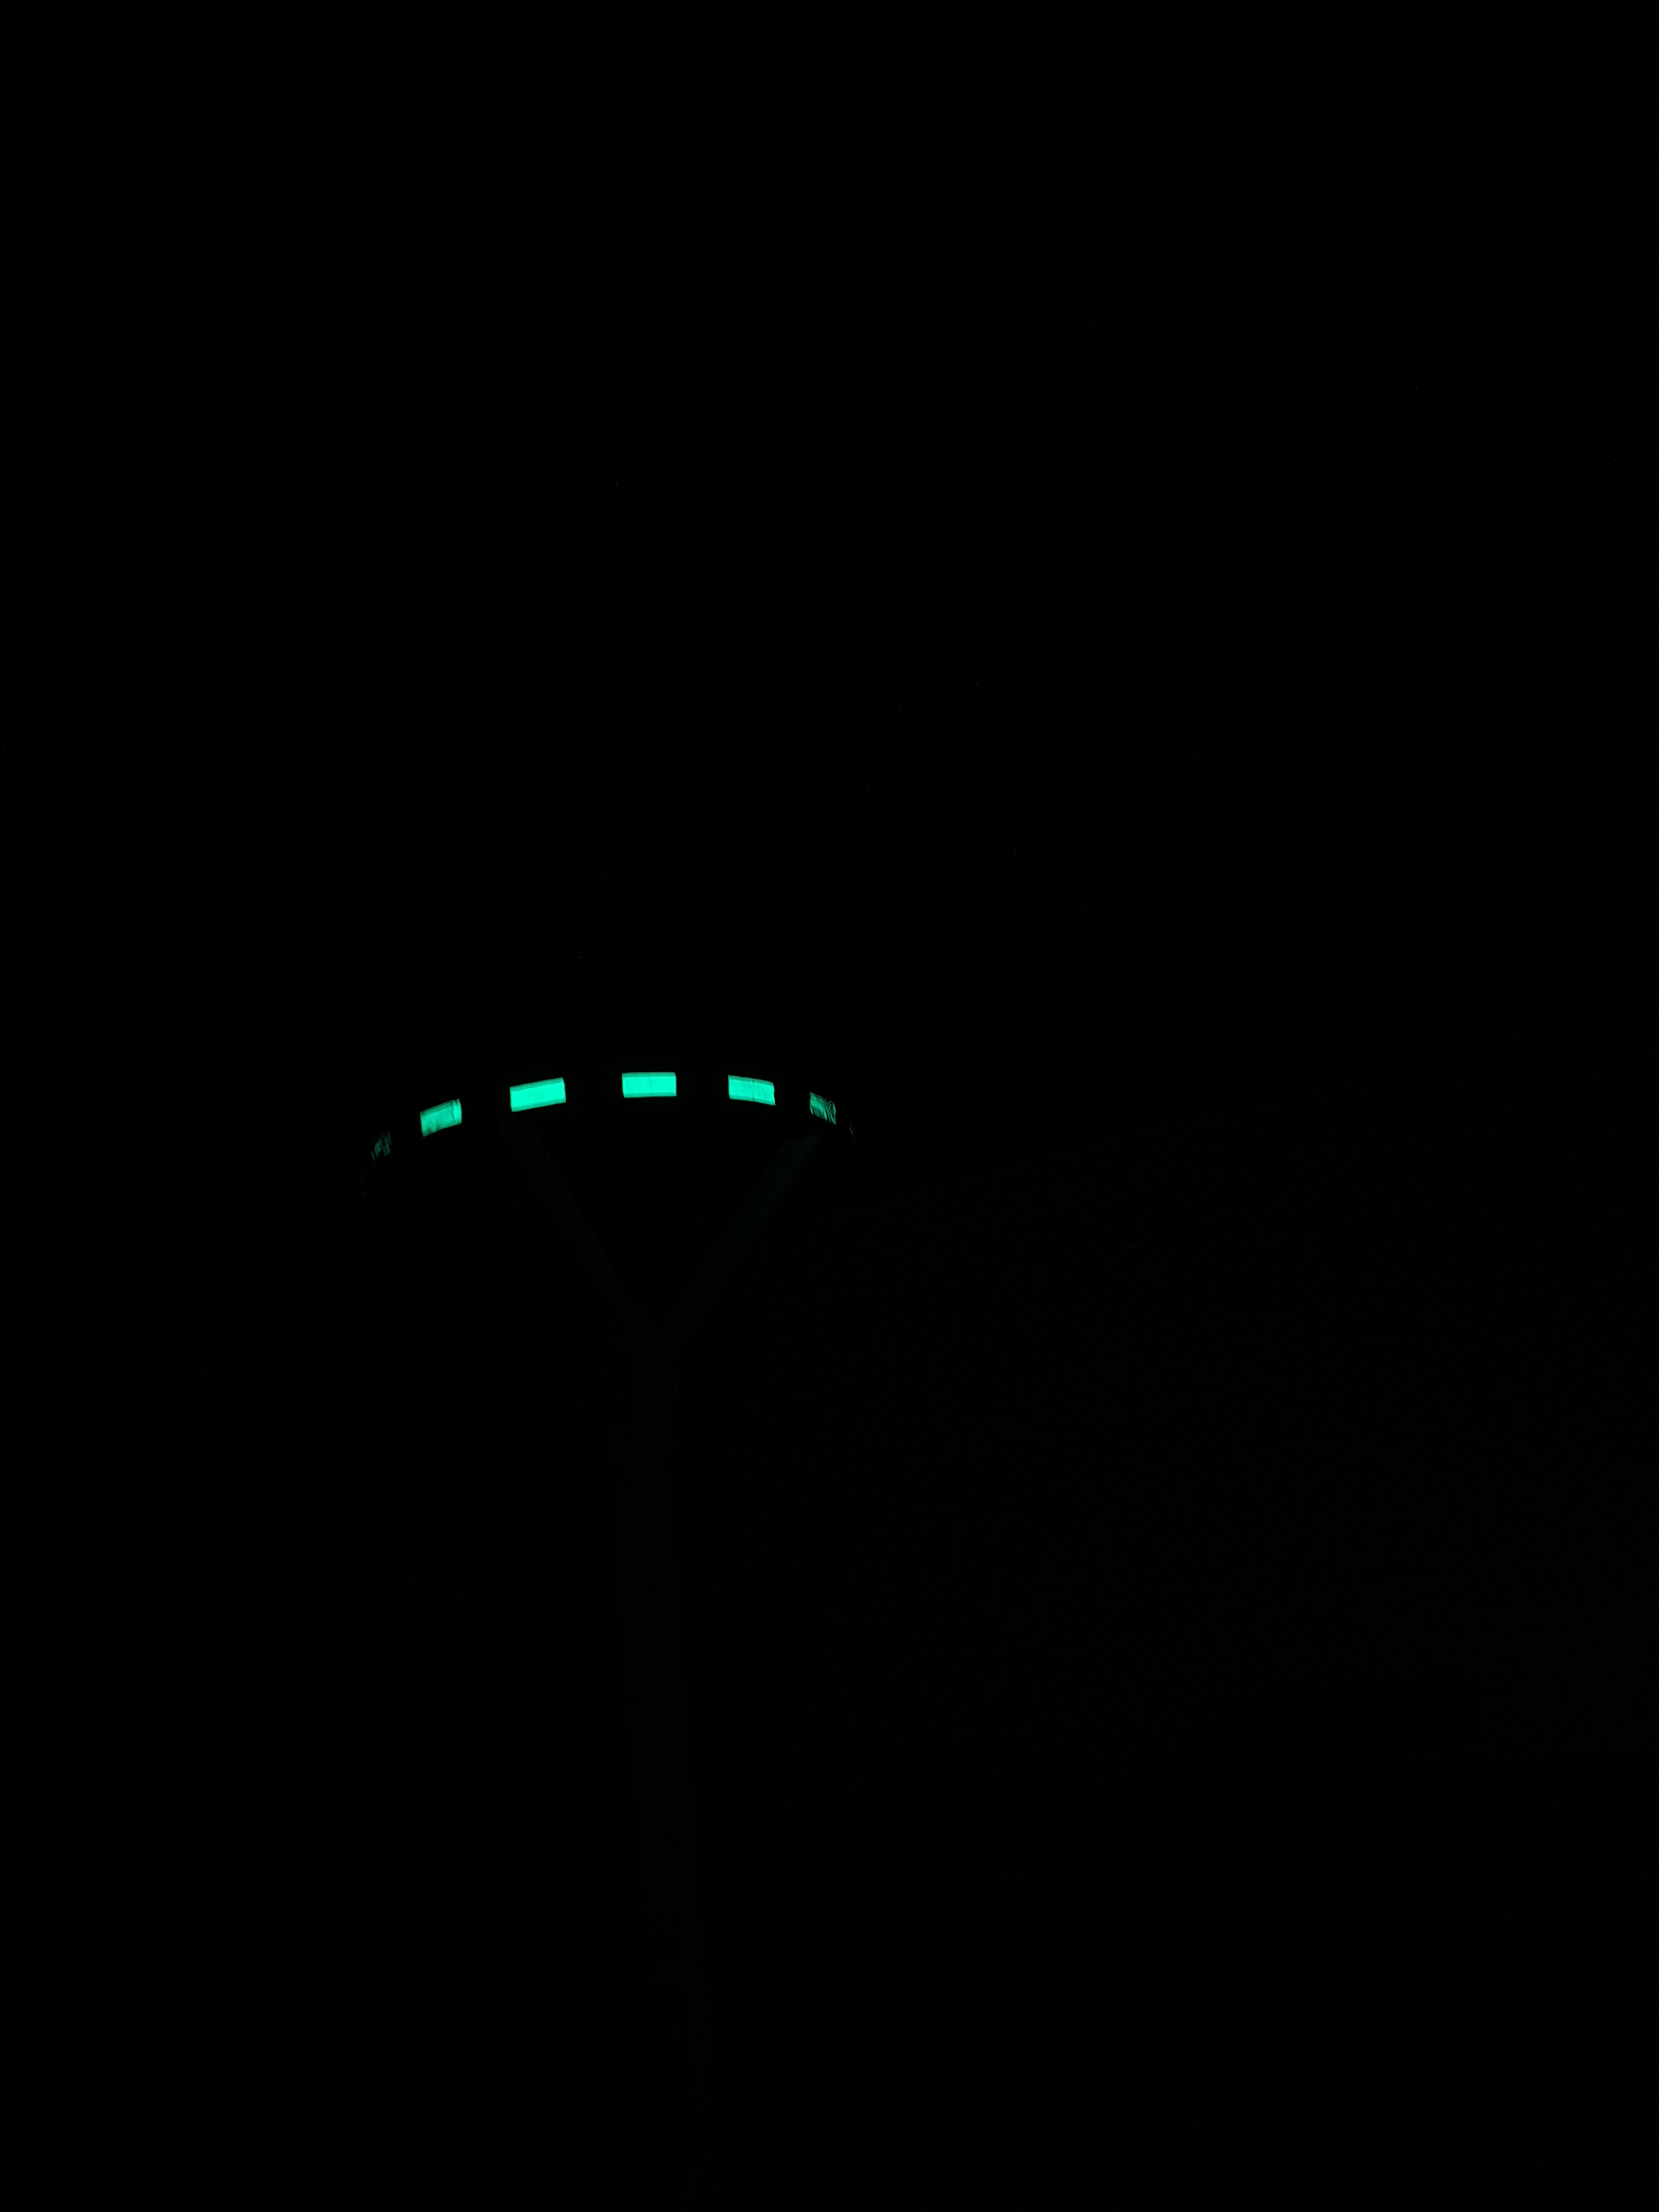hoop: (364, 1064, 863, 1157)
